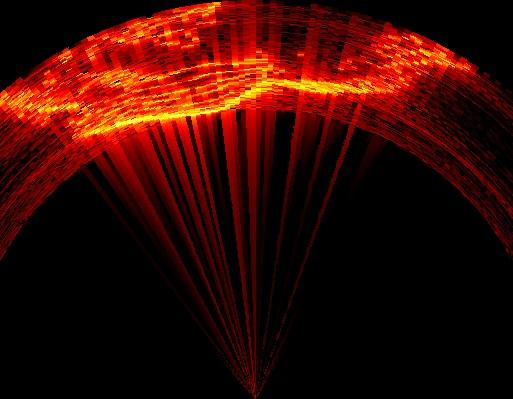shipwreck: (0, 4, 478, 136)
